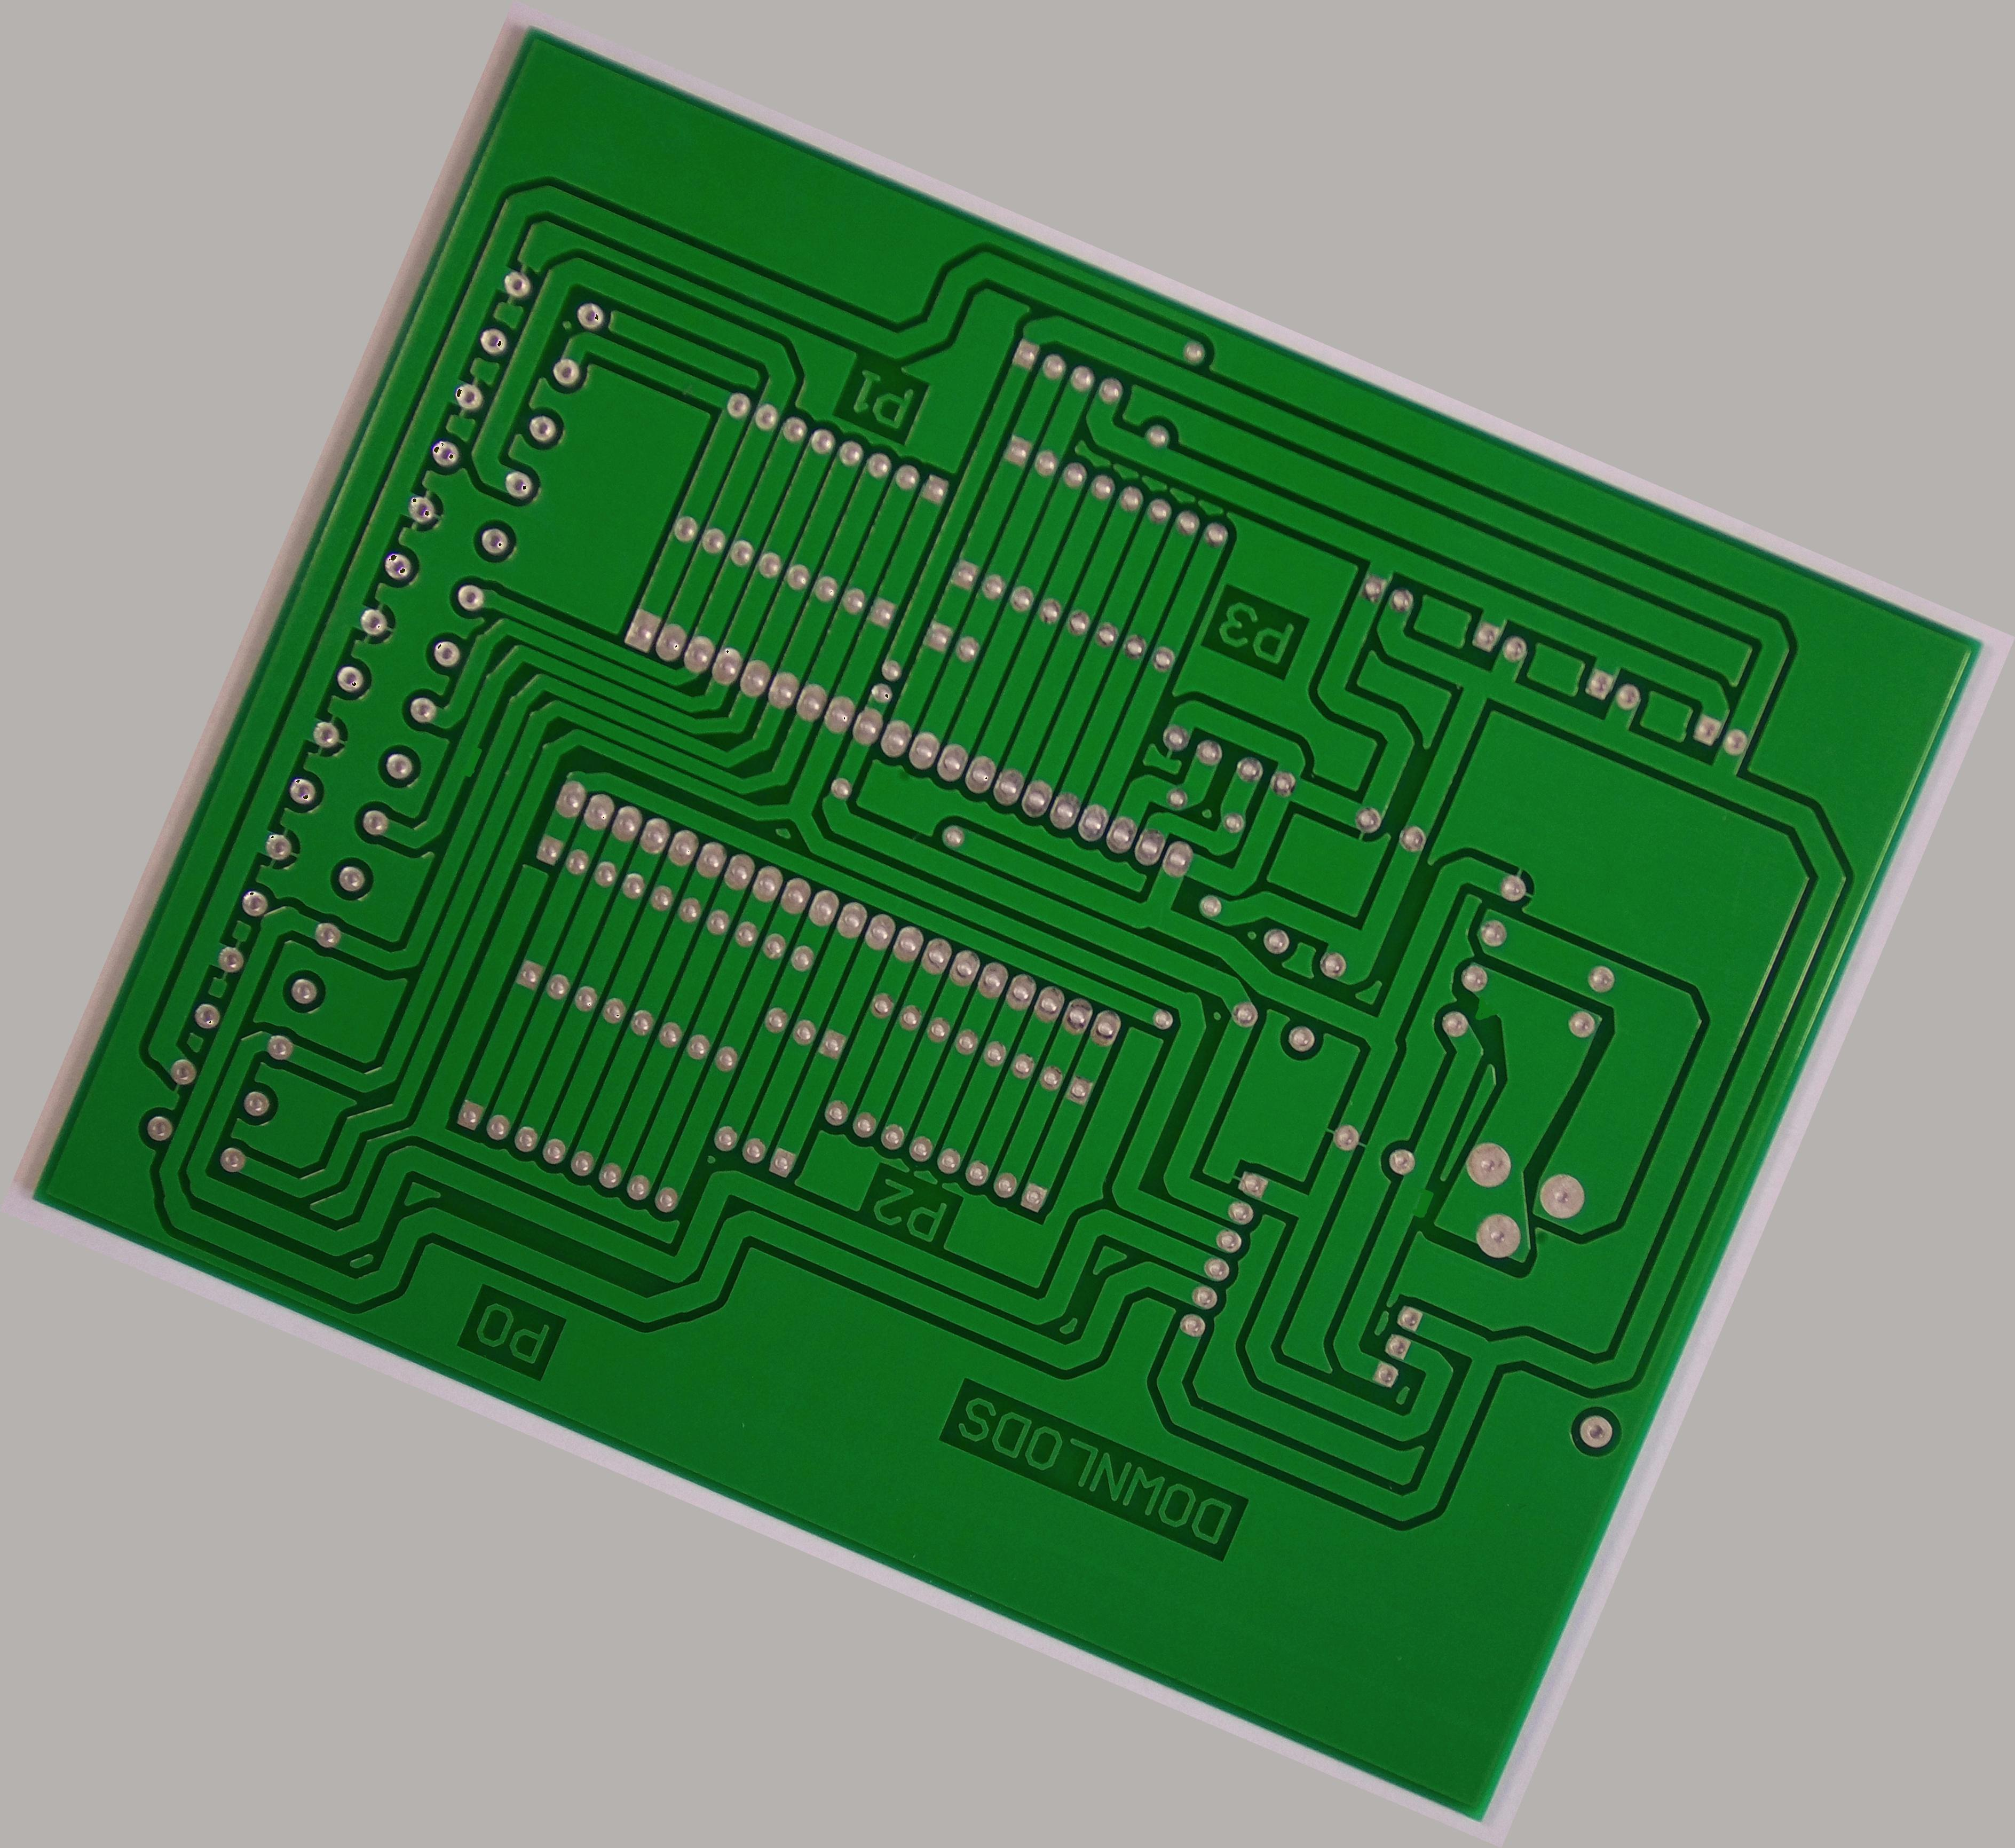spur: (448, 732, 493, 790), (1397, 1176, 1443, 1232), (1464, 990, 1513, 1035)
